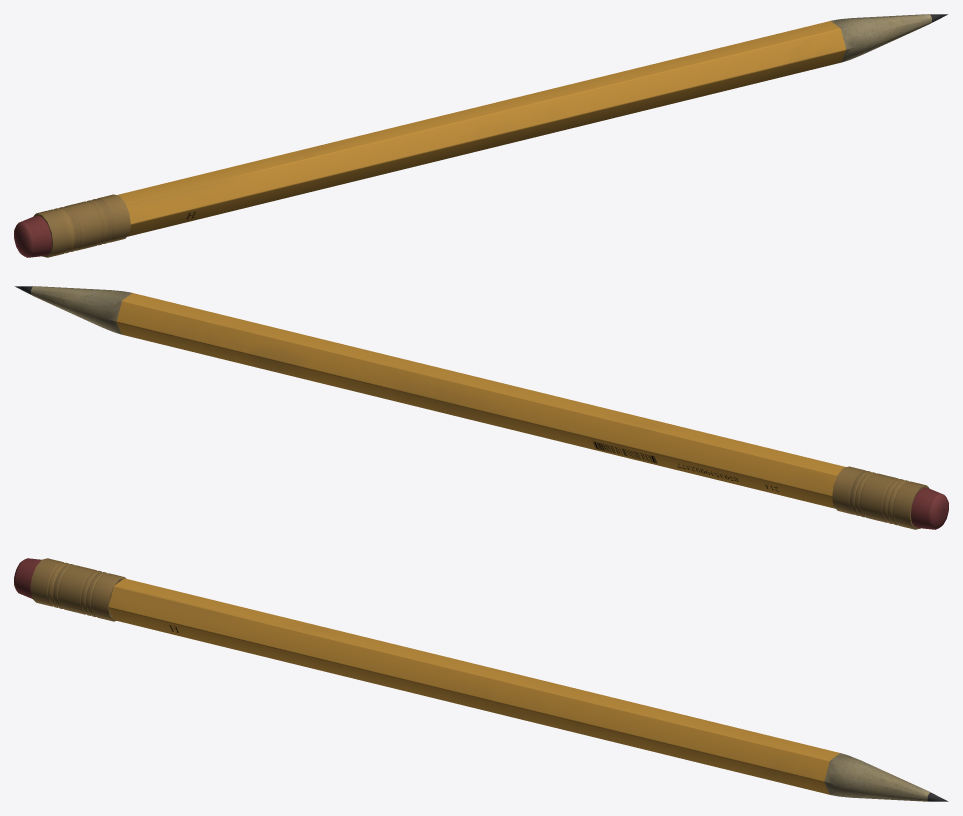
Rendered from PencilGeo.obj.
3 renders of one model, top to bottom at view 1: azimuth 30°, elevation 25°; view 2: azimuth 150°, elevation 25°; view 3: azimuth 330°, elevation 25°, orthographic.
Visible parts, largest first — view 1: WoodenPole_polySurface5, Metal_polySurface6, Erase_pCylinder5; view 2: WoodenPole_polySurface5, Metal_polySurface6, Erase_pCylinder5; view 3: WoodenPole_polySurface5, Metal_polySurface6, Erase_pCylinder5.
Part boxes in pixels (x1,y1,x2,y2): WoodenPole_polySurface5: (117, 14, 947, 236); Metal_polySurface6: (33, 194, 130, 257); Erase_pCylinder5: (14, 215, 51, 257); WoodenPole_polySurface5: (15, 286, 845, 508); Metal_polySurface6: (832, 466, 929, 529); Erase_pCylinder5: (911, 487, 948, 529); WoodenPole_polySurface5: (108, 578, 948, 801); Metal_polySurface6: (30, 558, 126, 621); Erase_pCylinder5: (14, 558, 41, 598).
Bounding box in the file's own units: 20.57 × 0.8803 × 0.8803.
